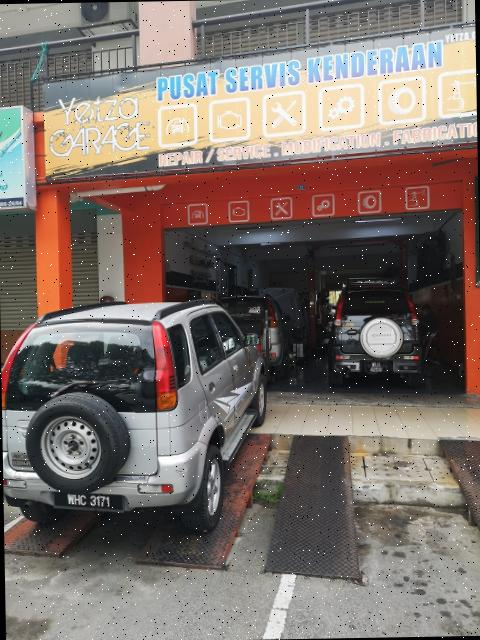License_Plate: (55, 491, 126, 514), (367, 362, 390, 373)
car: (1, 298, 284, 540), (324, 269, 436, 388)
